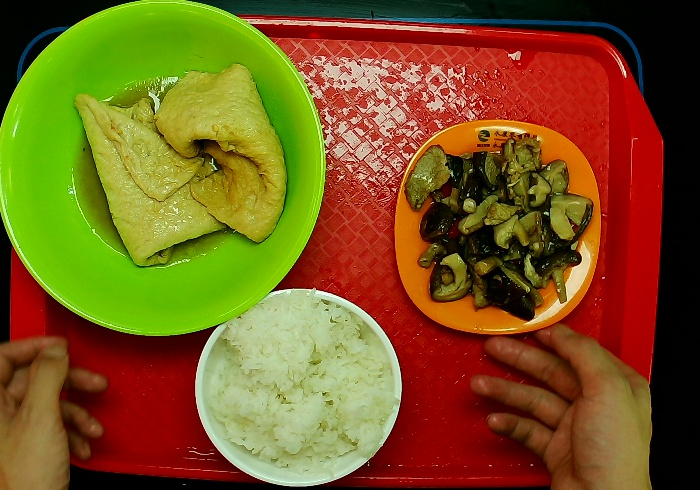YKMZ-Fan_Wan: (192, 286, 403, 490)
YKMZ-Ju_Se_Fang_Die: (393, 119, 602, 336)
YKMZ-Lv_Se_Tang_Wan: (1, 1, 327, 339)
